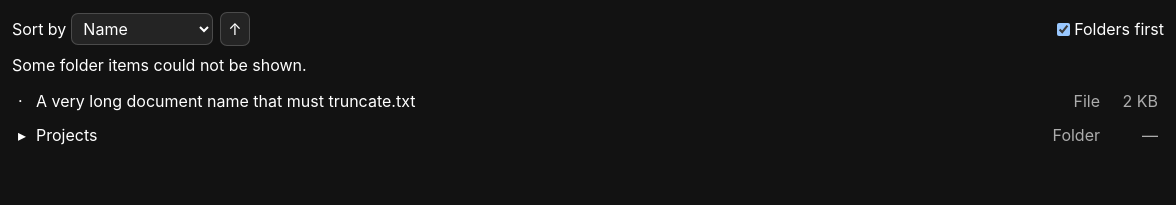
Test case: FolderPanel › announces partial listings and action errors
The image size is (1176, 205).
Check: the text "Some folder items could not be shown." is shown, box [12,55,307,75]
Click the button with aria-label "Open Projects".
click(67, 135)  # box [12,118,1164,152]
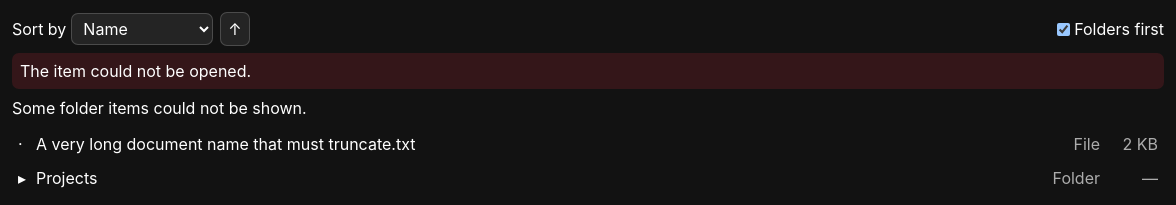
Check: the message reads "The item could not be opened.", box [20,61,251,81]
